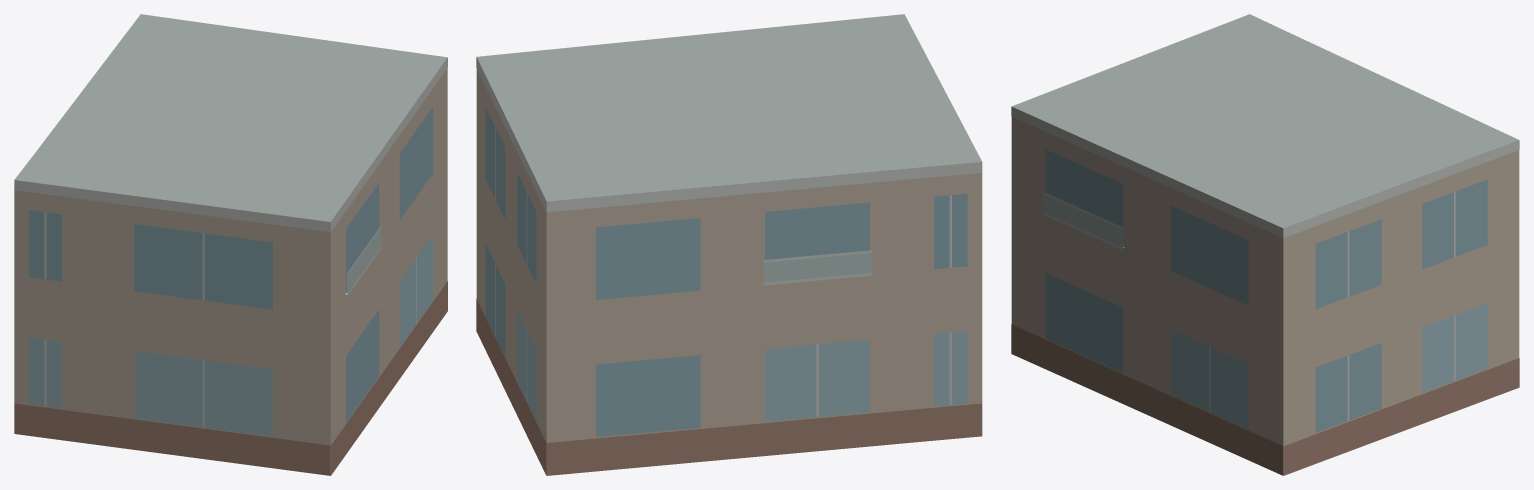
Rendered from survey-upis-32941150.glb.
3 views of the same model, side by side, from view 1: azimuth 30°, elevation 25°; view 2: azimuth 150°, elevation 25°; view 3: azimuth 270°, elevation 25° (orthographic). The views are drawn at different scales.
Parts seen in each view (by area): view 1: survey-upis-32941150.tmp; view 2: survey-upis-32941150.tmp; view 3: survey-upis-32941150.tmp.
Boxes of the visible parts, x1,y1,x2,y2 form: survey-upis-32941150.tmp: (14,14,447,475); survey-upis-32941150.tmp: (476,14,982,475); survey-upis-32941150.tmp: (1011,14,1519,475).
Size of the model in its own units: 11.35 by 6.1 by 11.36.
